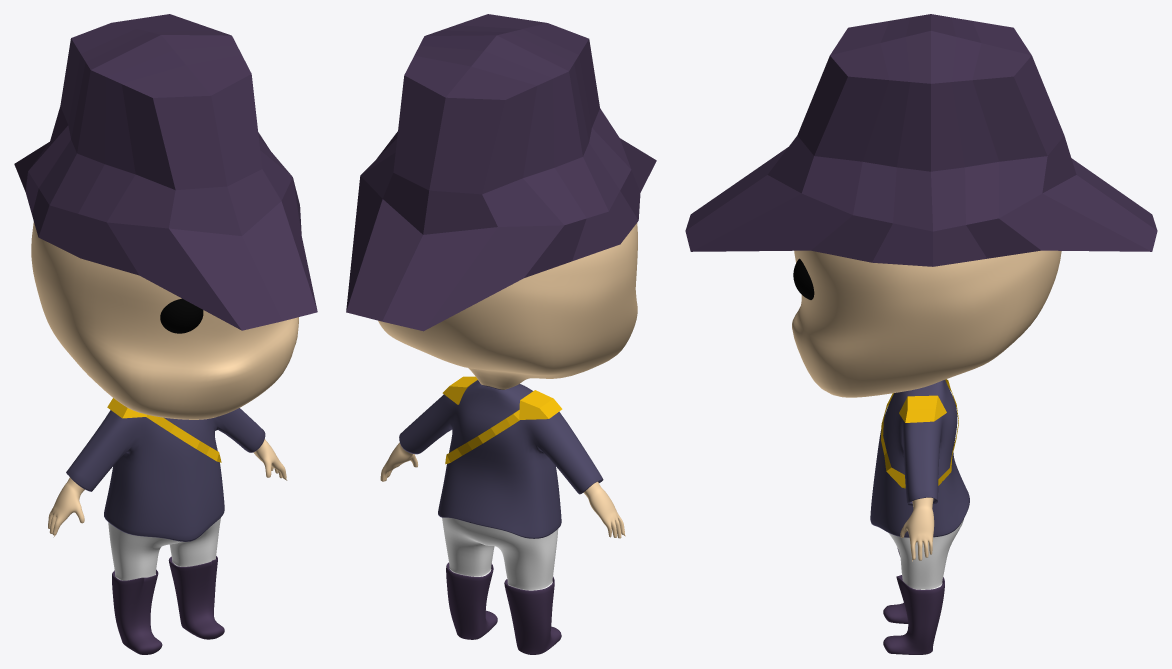
The model's file is dekock _cpy3.fbx.
3 views of the same model, side by side, from view 1: azimuth 30°, elevation 25°; view 2: azimuth 150°, elevation 25°; view 3: azimuth 270°, elevation 25° (orthographic). The views are drawn at different scales.
Parts seen in each view (by area): view 1: Cube; view 2: Cube; view 3: Cube.
Part boxes in pixels (x1=…): Cube: x1=14, y1=14, x2=317, y2=654; Cube: x1=346, y1=14, x2=656, y2=654; Cube: x1=685, y1=14, x2=1157, y2=654.
Bounding box in the file's own units: 157 × 367 × 260.
